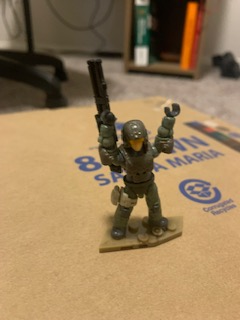soldier: (83, 56, 181, 243)
